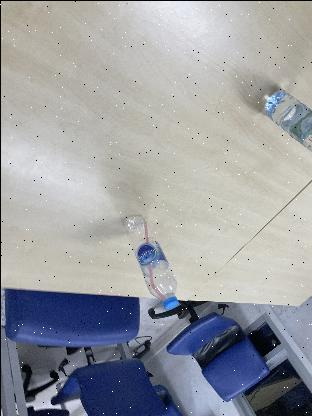Plastic Bottle: (121, 212, 179, 308), (260, 87, 312, 155)
